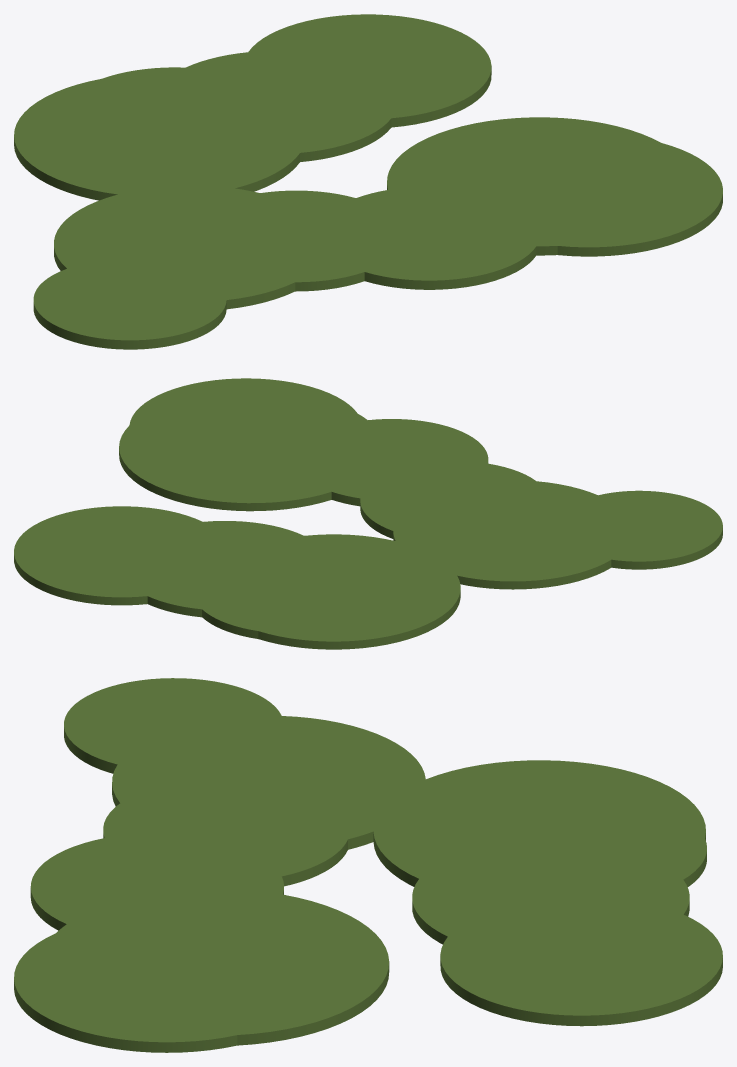
The model's file is f28-floating-weed-mat.glb.
3 views of the same model, one above another, from view 1: azimuth 30°, elevation 25°; view 2: azimuth 150°, elevation 25°; view 3: azimuth 270°, elevation 25° (orthographic). The views are drawn at different scales.
Parts seen in each view (by area): view 1: part0; view 2: part0; view 3: part0.
Part boxes in pixels (bbox=[...]): part0: bbox=[14, 14, 722, 349]; part0: bbox=[14, 378, 722, 649]; part0: bbox=[14, 678, 722, 1052].
Size of the model in its own units: 4454 by 60 by 3664.
